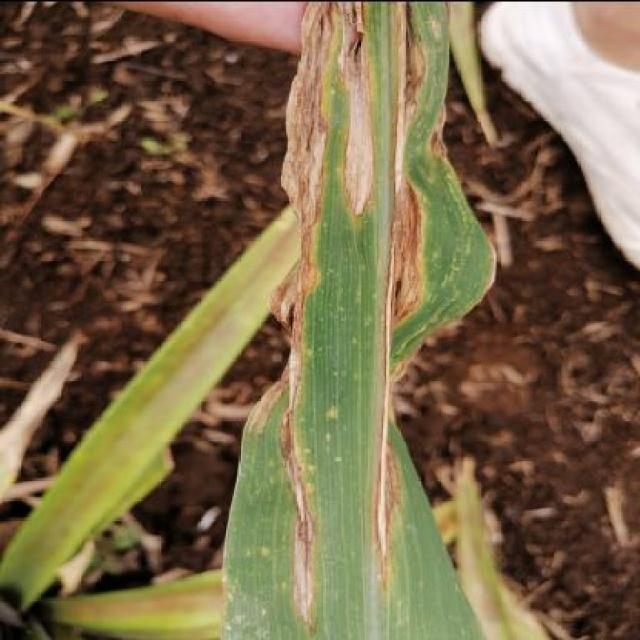Corn_Leaf_Blight: (223, 0, 492, 640)
